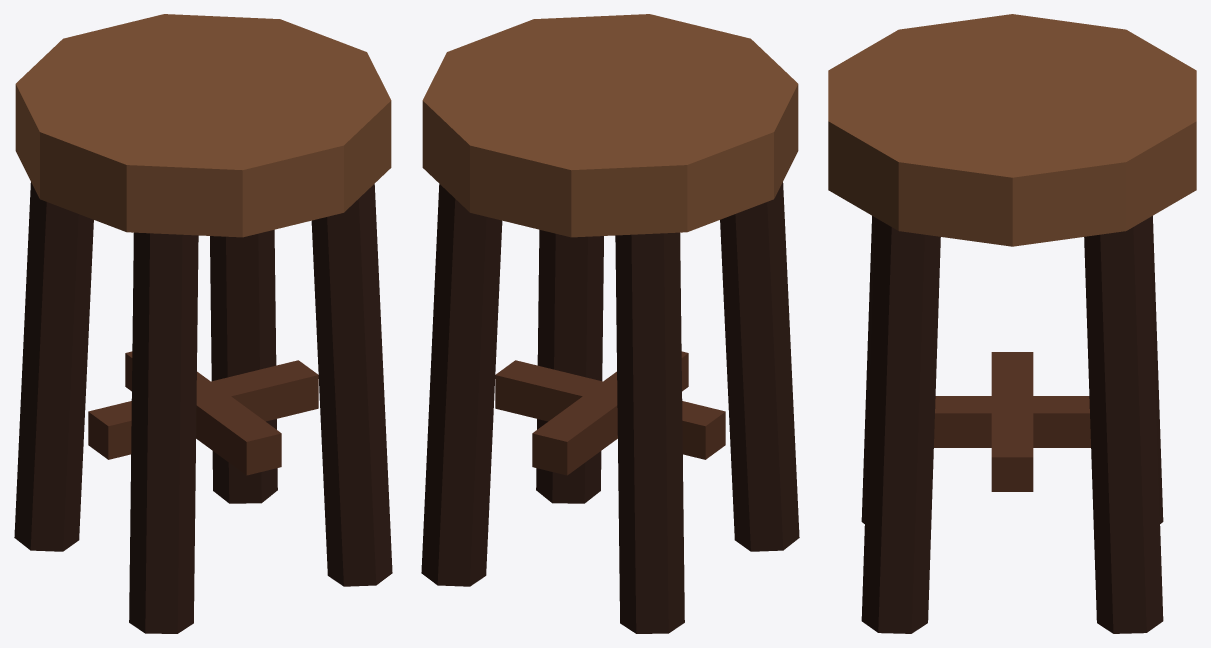
File: stool.obj
3 renders of one model, left to right at view 1: azimuth 30°, elevation 25°; view 2: azimuth 150°, elevation 25°; view 3: azimuth 270°, elevation 25°, orthographic. The views are drawn at different scales.
Parts seen in each view (by area): view 1: stool; view 2: stool; view 3: stool.
Boxes of the visible parts, x1,y1,x2,y2 form: stool: (14, 14, 392, 633); stool: (421, 14, 799, 633); stool: (828, 14, 1196, 633).
Bounding box in the file's own units: 0.56 × 0.762 × 0.5326.
